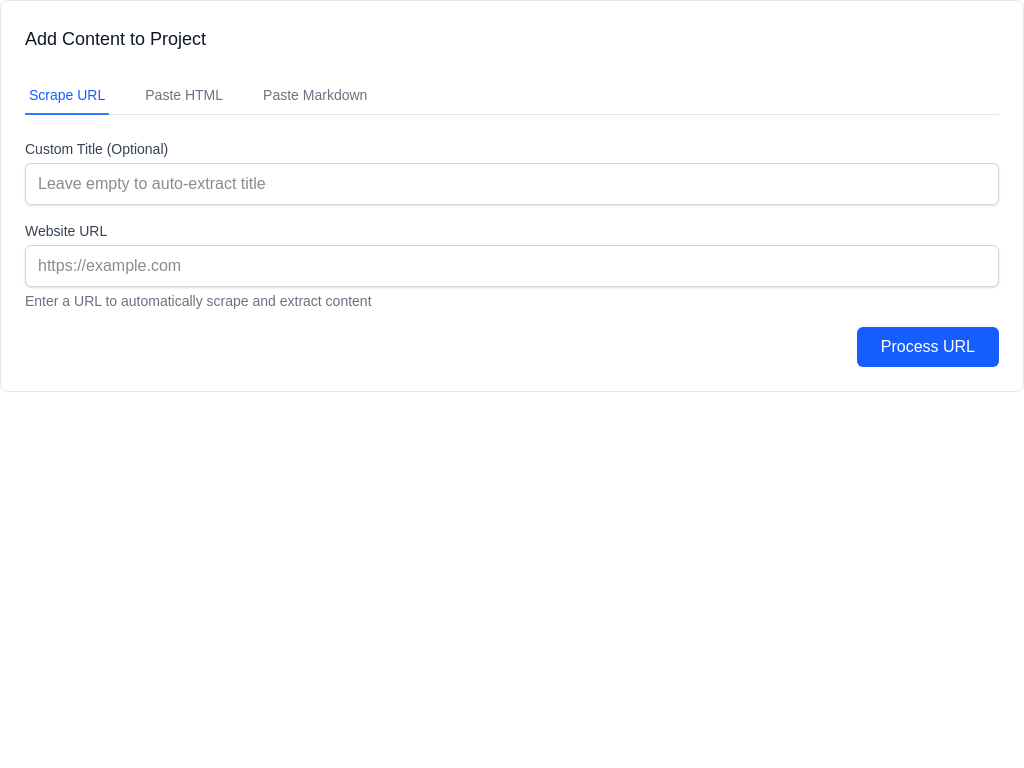
ContentIngestionForm › should switch to HTML tab when clicked
What coordinates should you click on to do the following:
click the button "Paste HTML"
I would click on:
 (184, 96)
Its box is [141, 77, 227, 115].
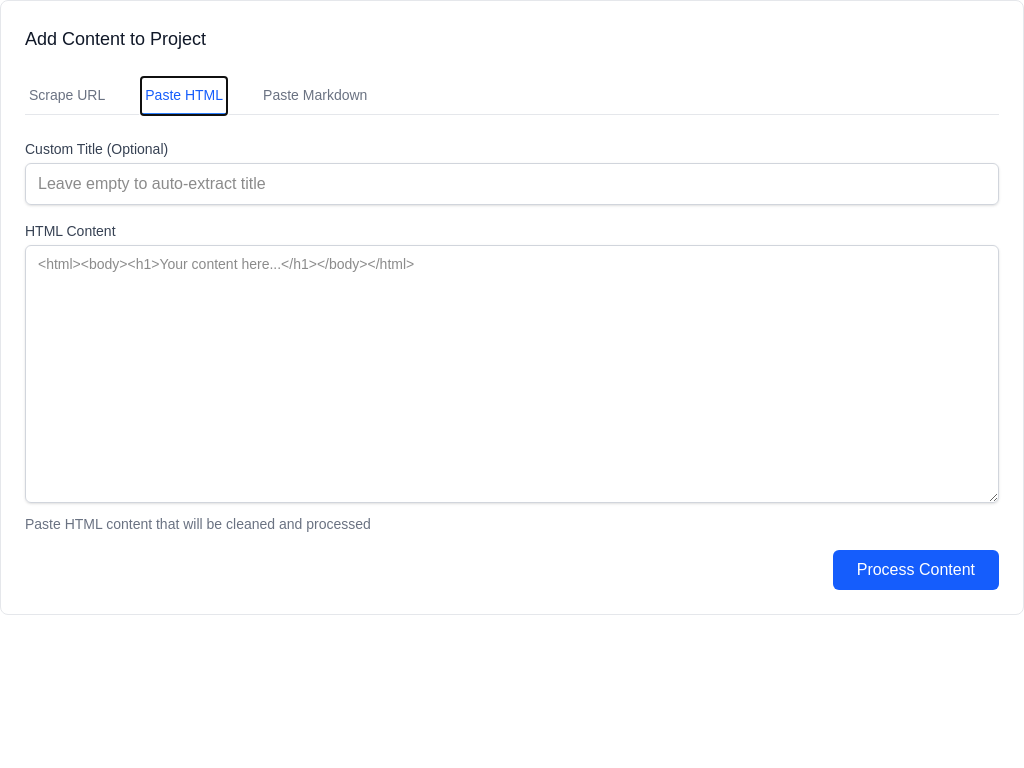
Expected: the text box with placeholder "<html><body><h1>Your content here...</h1></body></html>" is shown, [25, 245, 999, 503]
